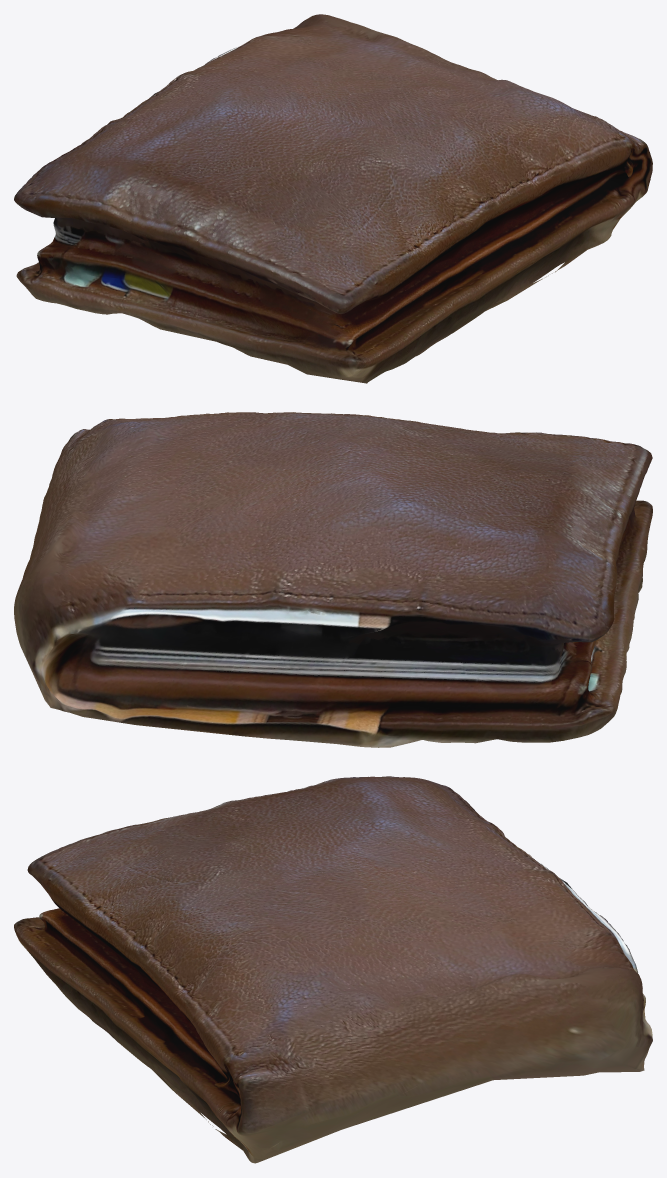
3 views of the same model, one above another, from view 1: azimuth 30°, elevation 25°; view 2: azimuth 150°, elevation 25°; view 3: azimuth 270°, elevation 25° (orthographic). The views are drawn at different scales.
Parts seen in each view (by area): view 1: Object_4; view 2: Object_4; view 3: Object_4.
Boxes of the visible parts, x1,y1,x2,y2 form: Object_4: (14,14,652,383); Object_4: (14,412,652,747); Object_4: (14,776,652,1163).
Size of the model in its own units: 0.1402 by 0.0397 by 0.1306.
1 material, 1 textured.
